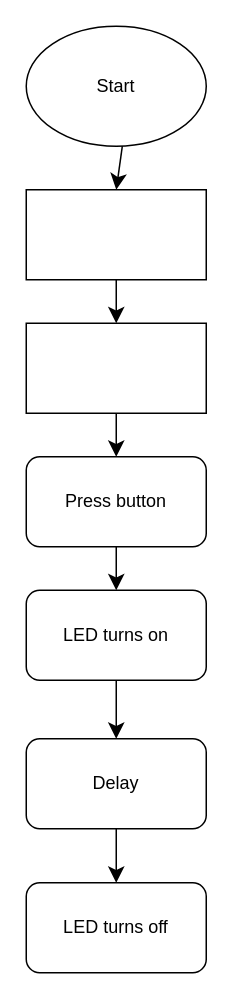
This 233x999 diagram has some shape labels left out. The shapes that lost their labels are listed below. From the top down, each one's box as (x1, y1, x2, y2) in pixels, then its label:
(25, 188, 206, 280): Define LED 3 and Button 7
(25, 322, 206, 413): Set LED as output, and button as input
